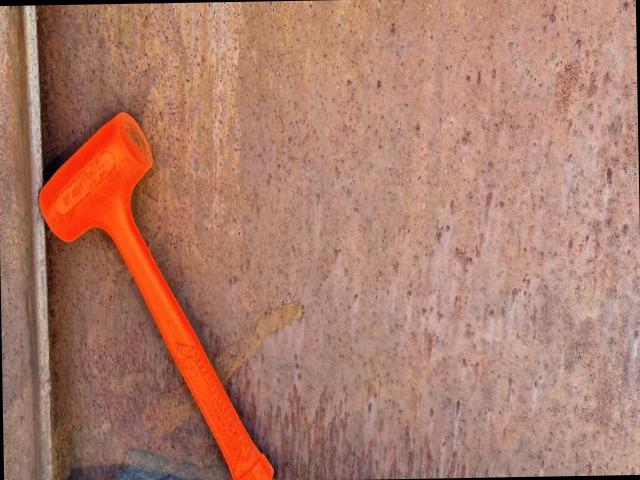hammer: (39, 110, 276, 480)
